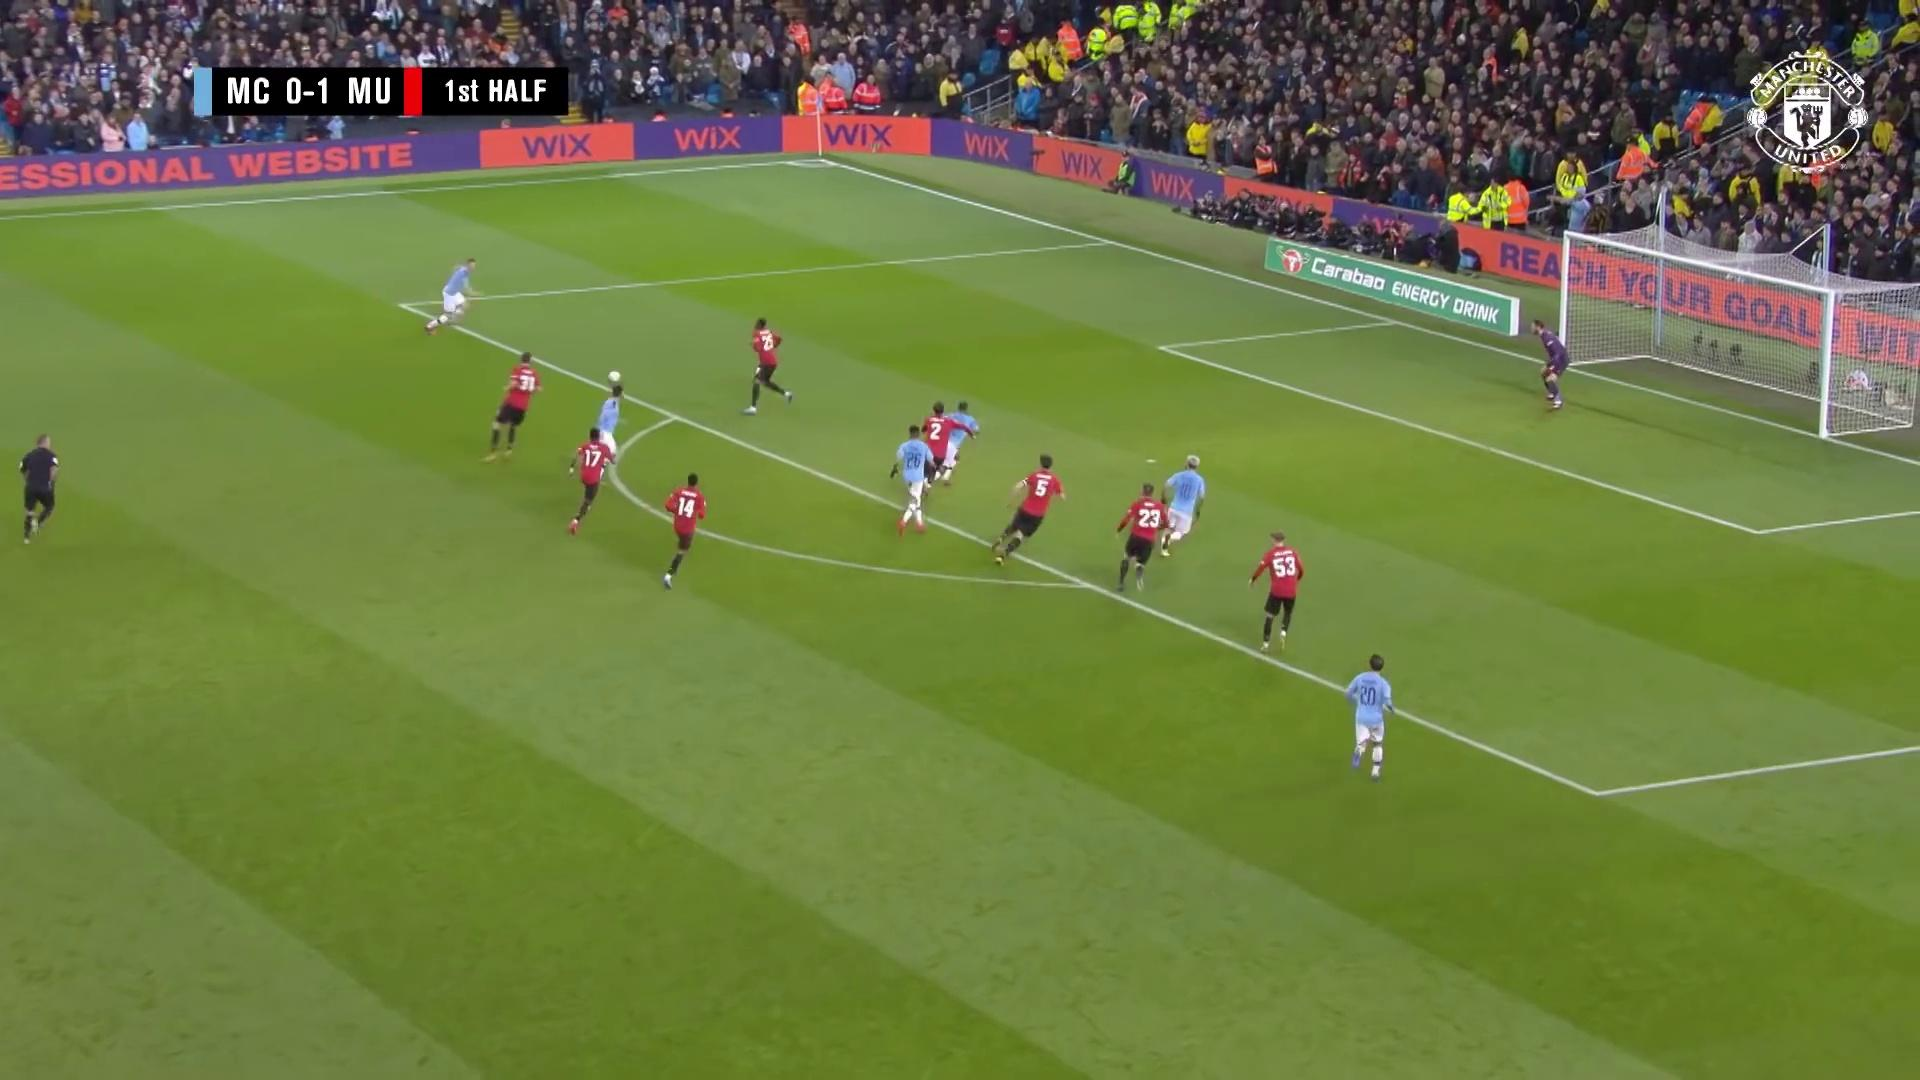ball: (607, 370, 621, 384)
